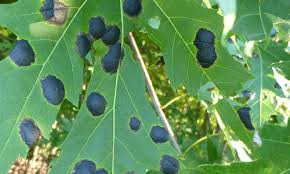Diseased_Leaves: (85, 93, 174, 174), (11, 41, 56, 139), (76, 11, 126, 84), (195, 28, 217, 68), (37, 2, 70, 24), (238, 103, 255, 128)
